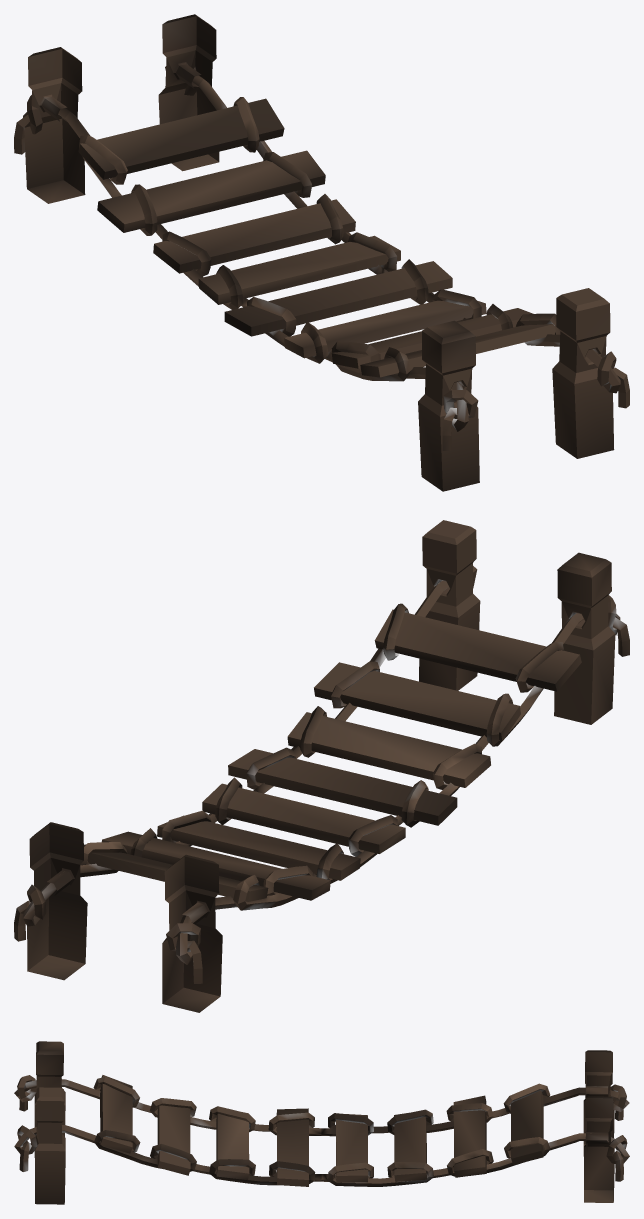
The model's file is most_1.fbx.
3 views of the same model, one above another, from view 1: azimuth 30°, elevation 25°; view 2: azimuth 150°, elevation 25°; view 3: azimuth 270°, elevation 25° (orthographic). The views are drawn at different scales.
Visible parts, largest first — view 1: Cube.034_Cube.029; view 2: Cube.034_Cube.029; view 3: Cube.034_Cube.029.
Part boxes in pixels (<box>): Cube.034_Cube.029: <box>14,14,629,491</box>; Cube.034_Cube.029: <box>14,520,629,1012</box>; Cube.034_Cube.029: <box>14,1041,629,1204</box>.
Size of the model in its own units: 265 by 183 by 964.
